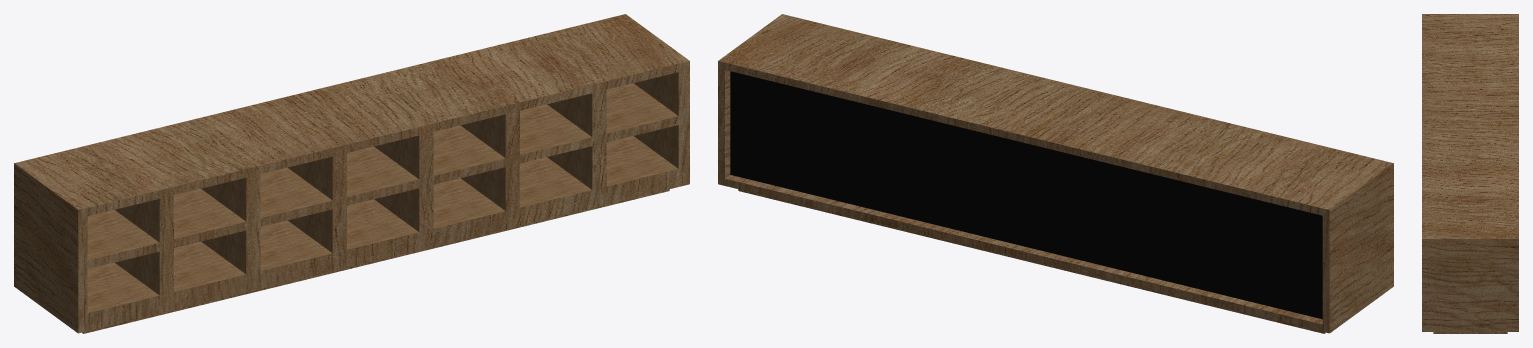
File: desk_refter.fbx
3 views of the same model, side by side, from view 1: azimuth 30°, elevation 25°; view 2: azimuth 150°, elevation 25°; view 3: azimuth 270°, elevation 25° (orthographic). The views are drawn at different scales.
Parts seen in each view (by area): view 1: Cube; view 2: Cube; view 3: Cube.
Boxes of the visible parts, box(x1,y1,x2,y2) form: Cube: box(14, 14, 689, 333); Cube: box(718, 14, 1393, 333); Cube: box(1422, 14, 1518, 333).
Size of the model in its own units: 1447 by 299 by 263.
